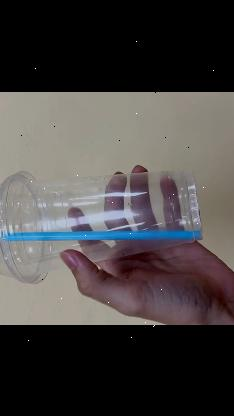Others: (0, 163, 204, 285)
